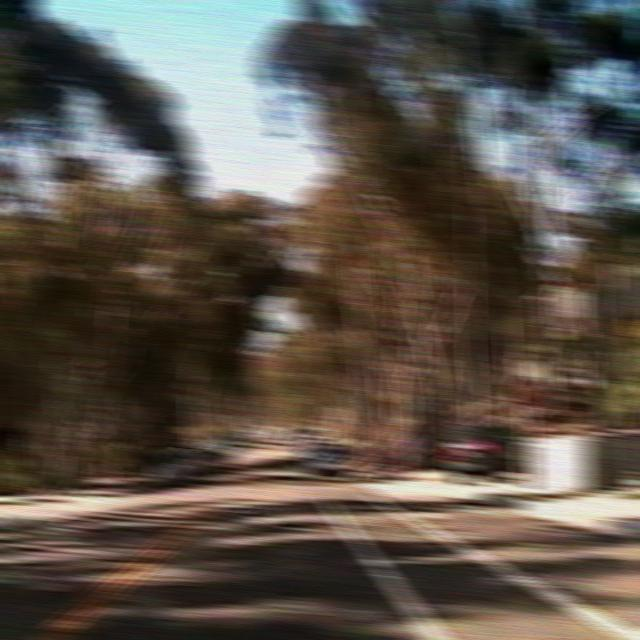stop: (512, 373, 542, 407)
